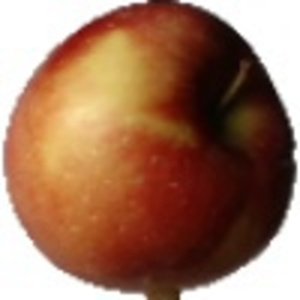maçã braeburn: (6, 2, 297, 291)
